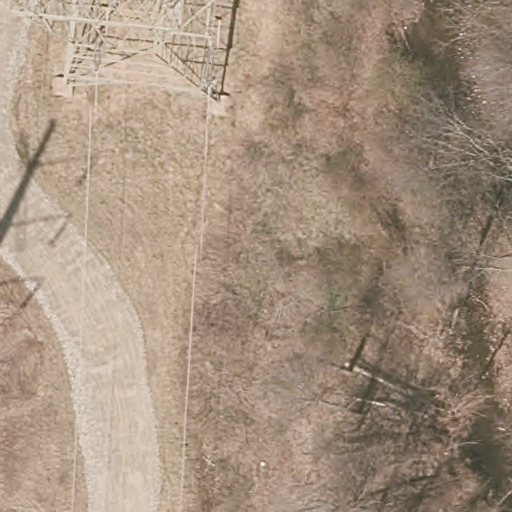TT: (15, 1, 232, 105)
